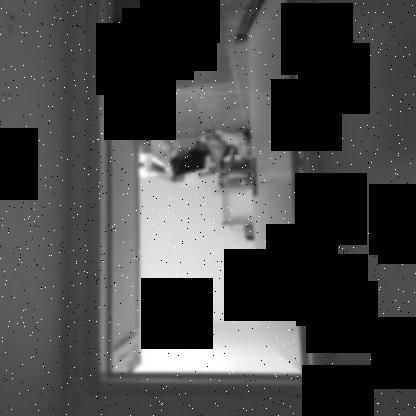Porte: (84, 0, 335, 398)
